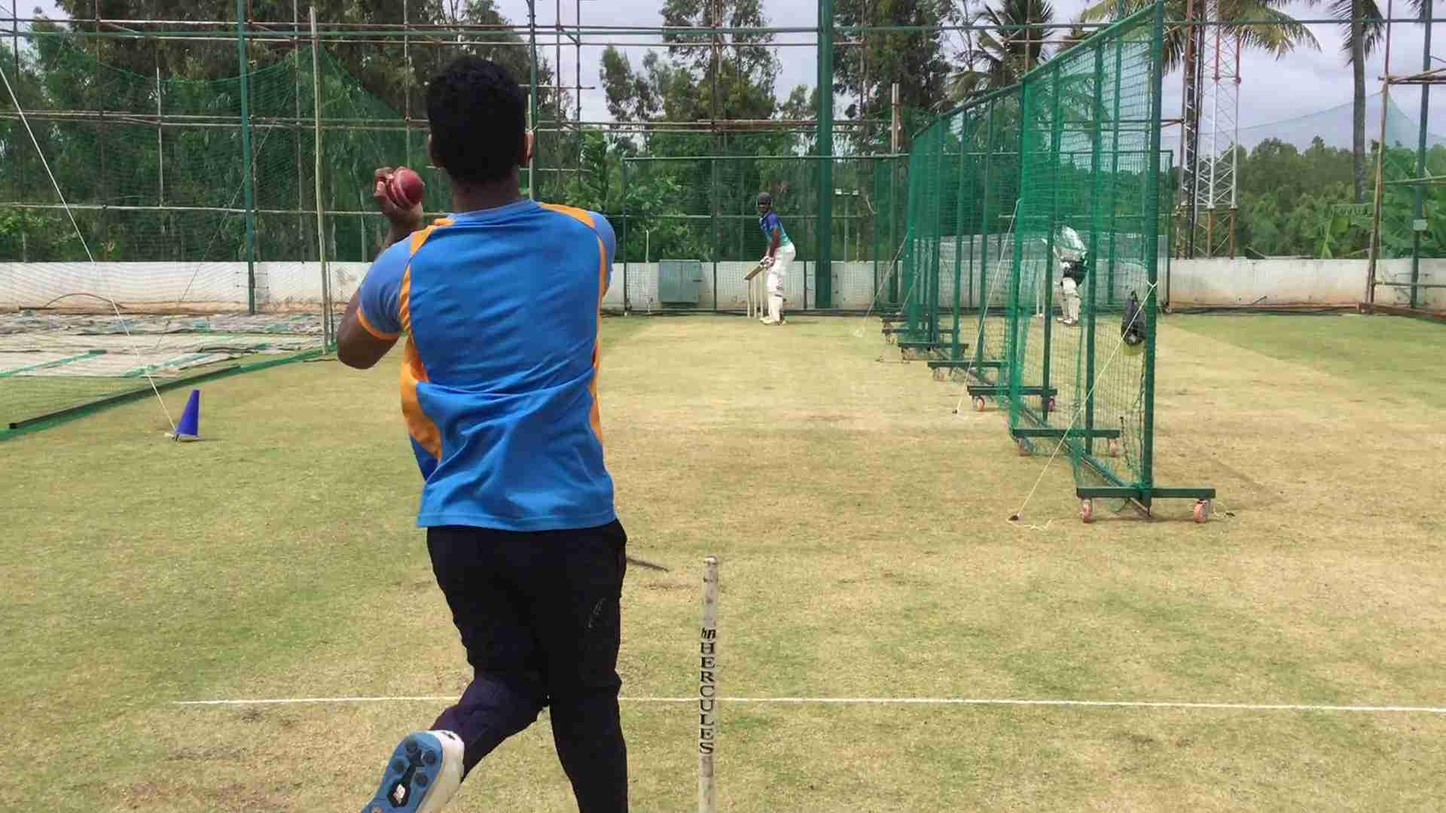batsman: (750, 189, 798, 336)
